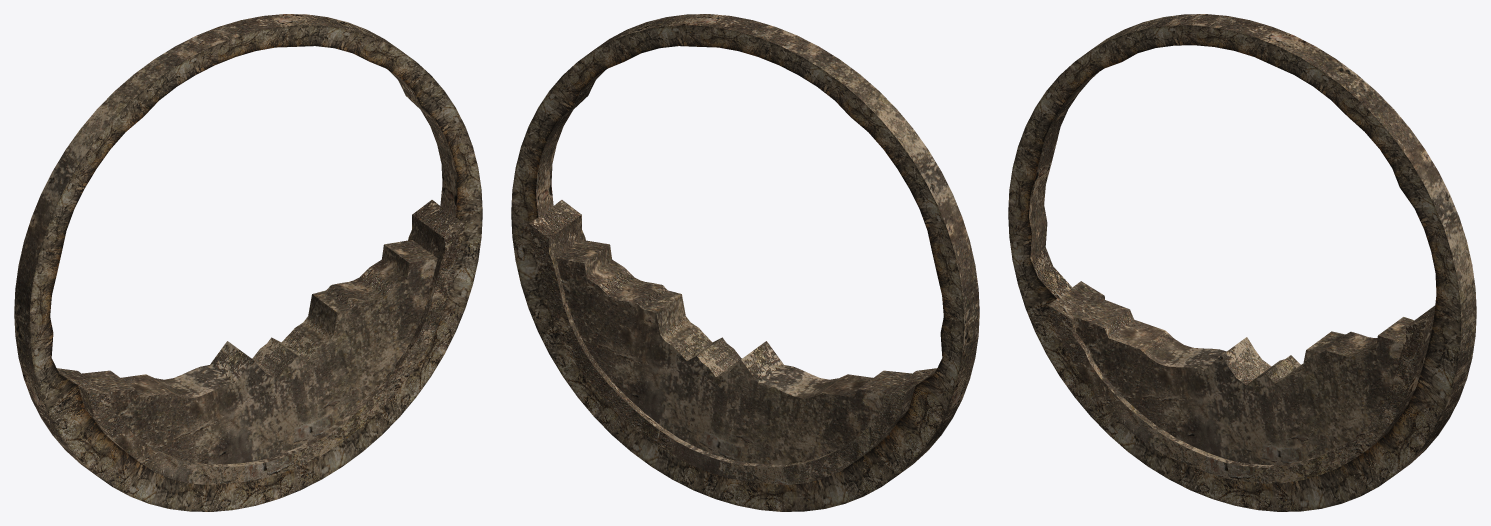
File: materials_5_decoration_plate_15.fbx
3 views of the same model, side by side, from view 1: azimuth 30°, elevation 25°; view 2: azimuth 150°, elevation 25°; view 3: azimuth 330°, elevation 25° (orthographic).
Parts seen in each view (by area): view 1: materials_5_decoration_plate_15; view 2: materials_5_decoration_plate_15; view 3: materials_5_decoration_plate_15.
Part boxes in pixels (x1=…): materials_5_decoration_plate_15: x1=14, y1=14, x2=482, y2=511; materials_5_decoration_plate_15: x1=511, y1=14, x2=979, y2=511; materials_5_decoration_plate_15: x1=1008, y1=14, x2=1476, y2=511.
Size of the model in its own units: 104 by 104 by 13.04.
